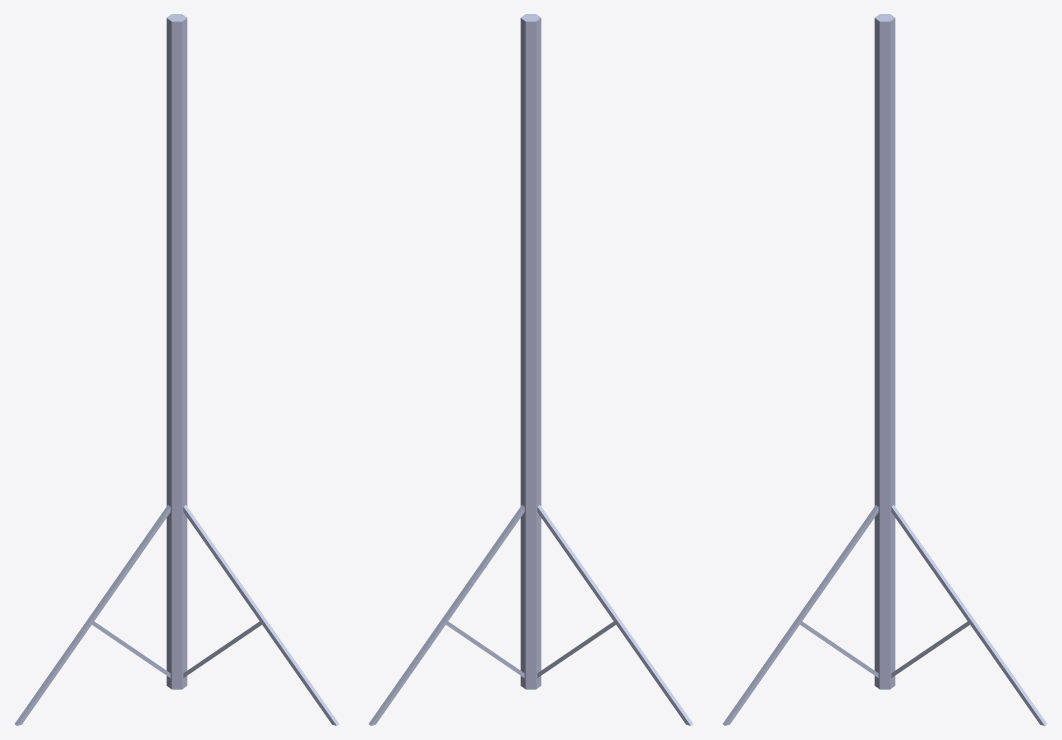
Rendered from Light_Tripod.FBX.
The picture shows the model from 3 angles, left to right: view 1: azimuth 30°, elevation 25°; view 2: azimuth 150°, elevation 25°; view 3: azimuth 270°, elevation 25°; orthographic projection.
Size of the model in its own units: 27.07 by 70.87 by 31.26.
